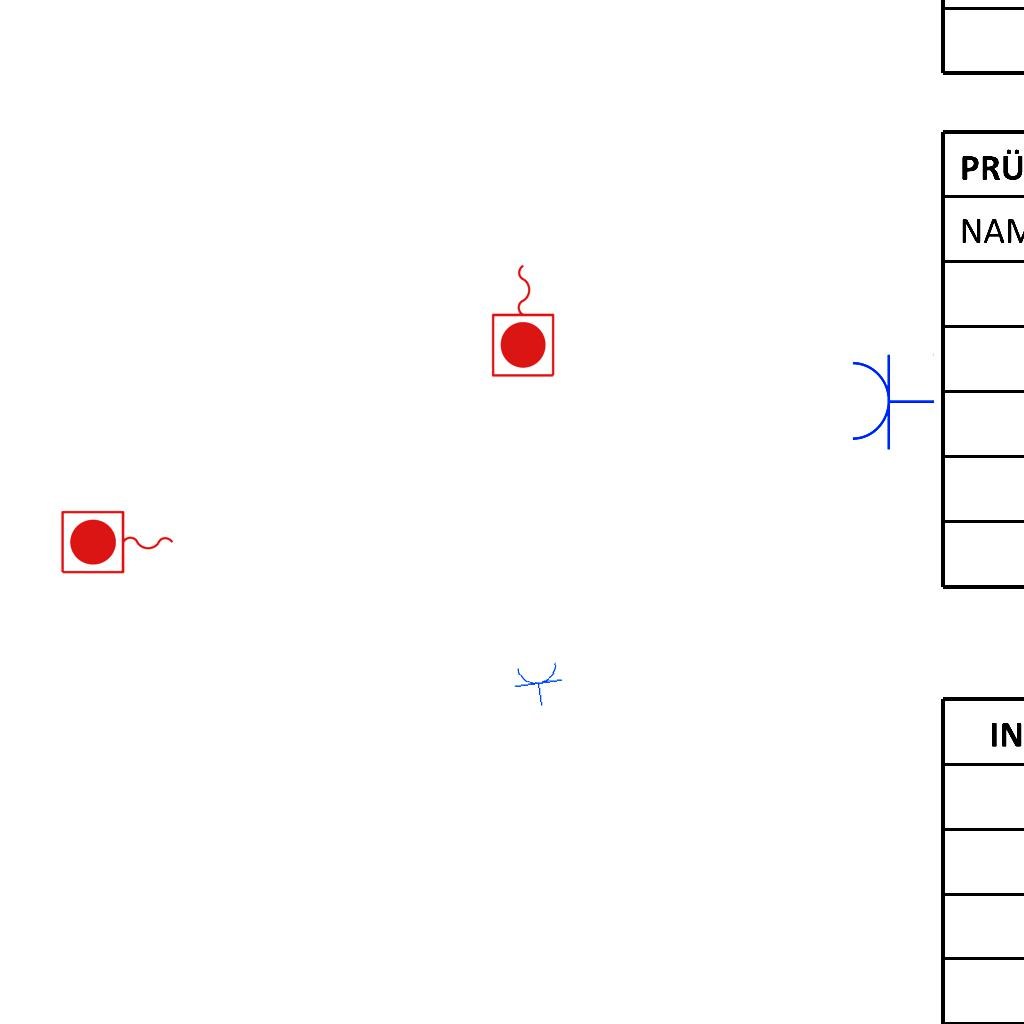Schukosteckdose_einfach: (848, 351, 935, 451), (511, 659, 567, 710)
Zugtaster: (57, 507, 179, 579), (488, 259, 560, 381)
